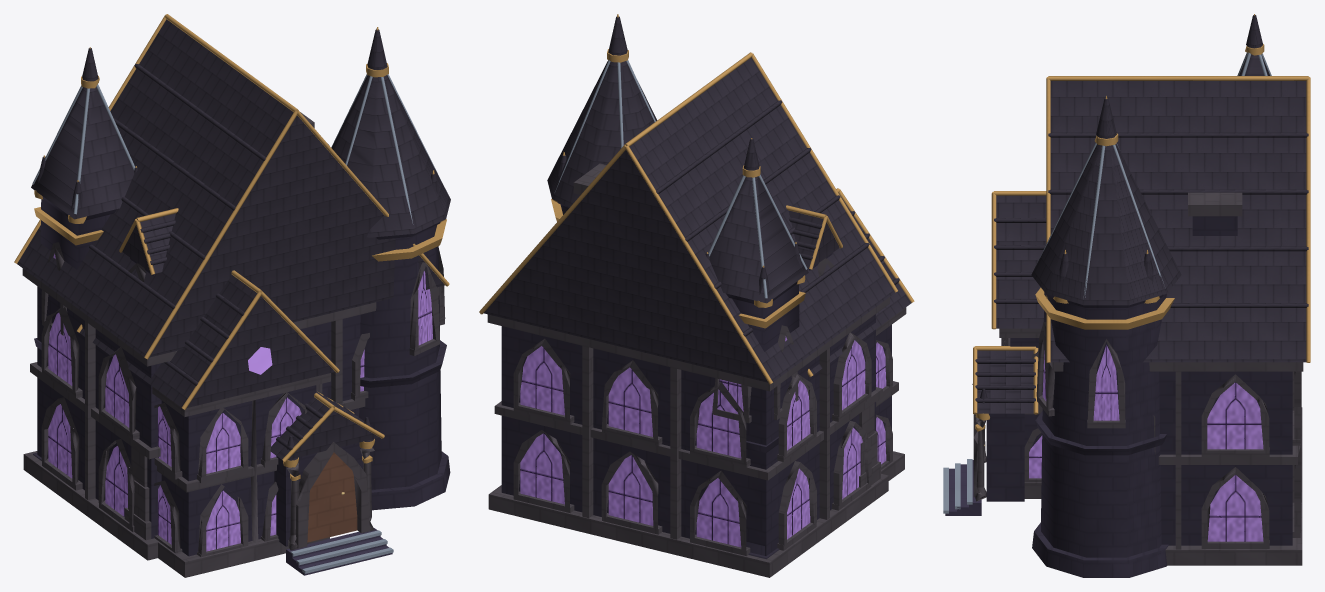
The model's file is obsidian-manor-distant.glb.
The picture shows the model from 3 angles, left to right: view 1: azimuth 30°, elevation 25°; view 2: azimuth 150°, elevation 25°; view 3: azimuth 270°, elevation 25°; orthographic projection. The views are drawn at different scales.
Size of the model in its own units: 6.65 by 8.86 by 6.53.
10 materials, 10 textured.
